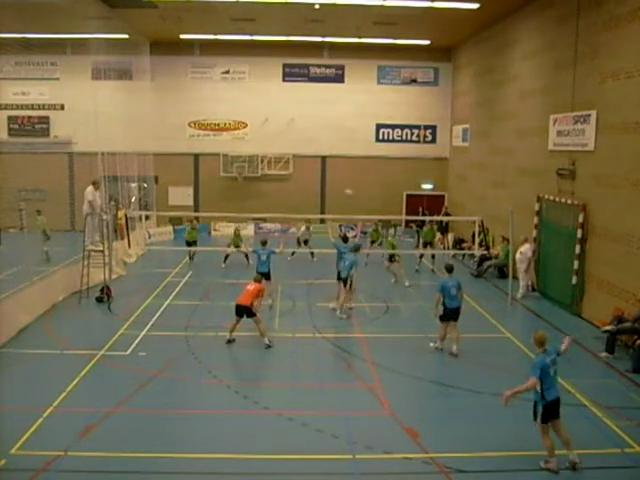Player: (503, 331, 579, 472), (225, 275, 272, 348), (430, 263, 462, 355), (328, 225, 360, 308), (252, 238, 282, 306), (337, 244, 360, 317), (385, 235, 409, 286), (222, 227, 250, 267), (288, 220, 315, 260), (415, 221, 436, 271), (364, 222, 382, 265), (185, 218, 198, 261)
ball: (343, 187, 356, 199)
